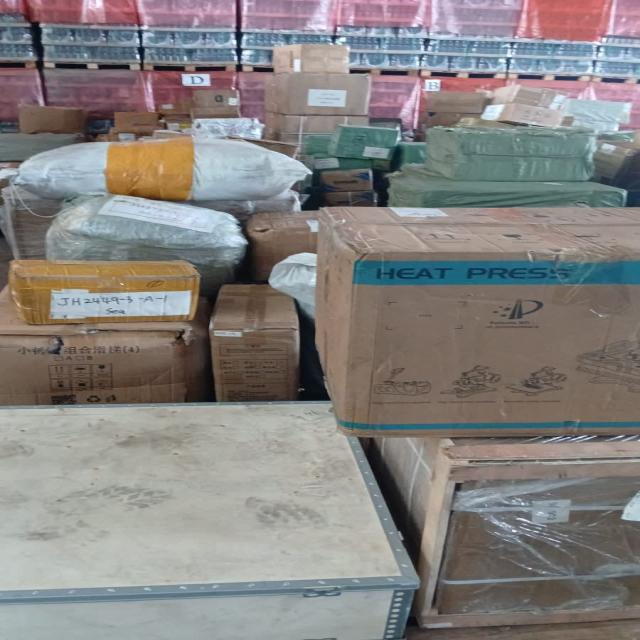carton_box: (286, 184, 640, 431)
